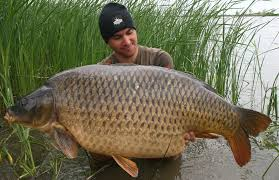carp: (3, 62, 272, 178)
